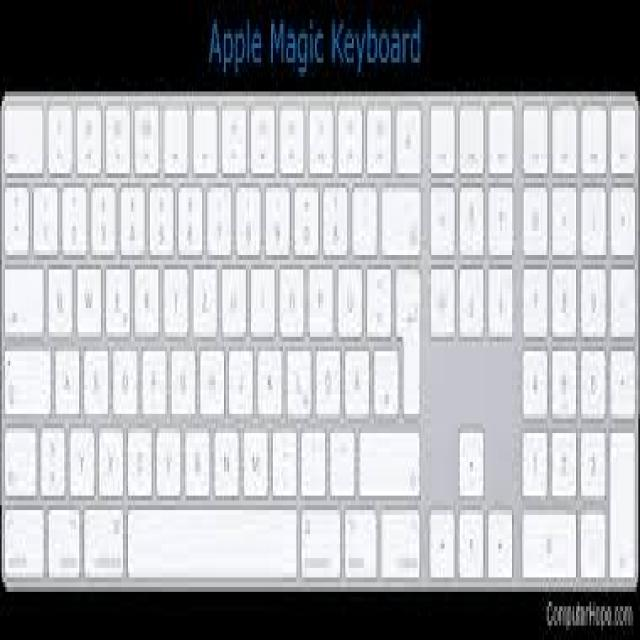others: (1, 62, 640, 630)
